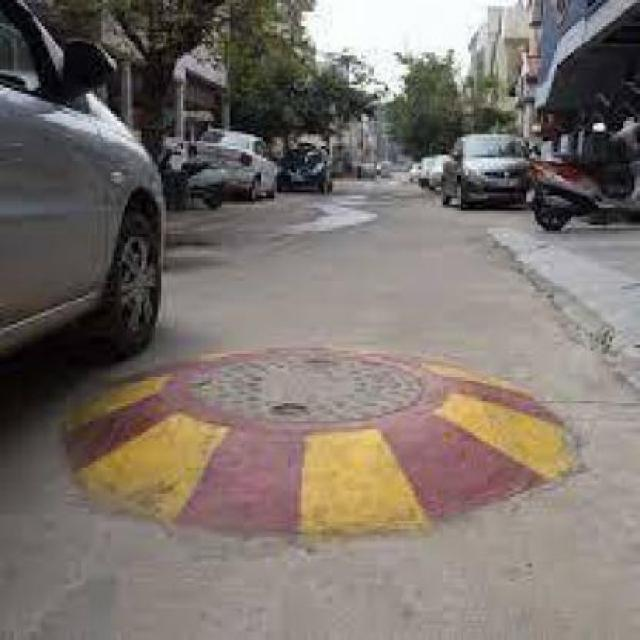Manhole: (182, 355, 446, 415)
